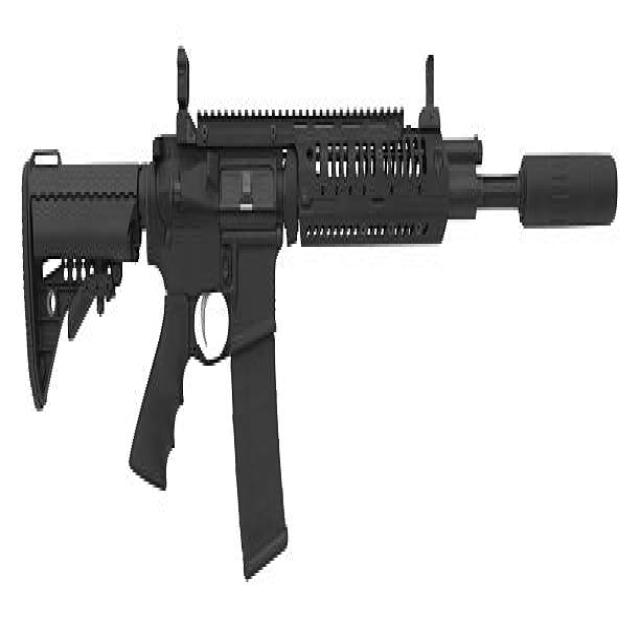rifle: (15, 27, 628, 612)
